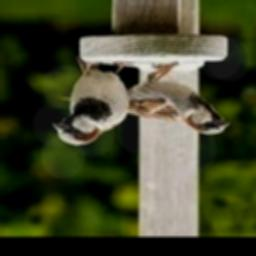Sparrow: (61, 62, 231, 135), (52, 62, 134, 146)
